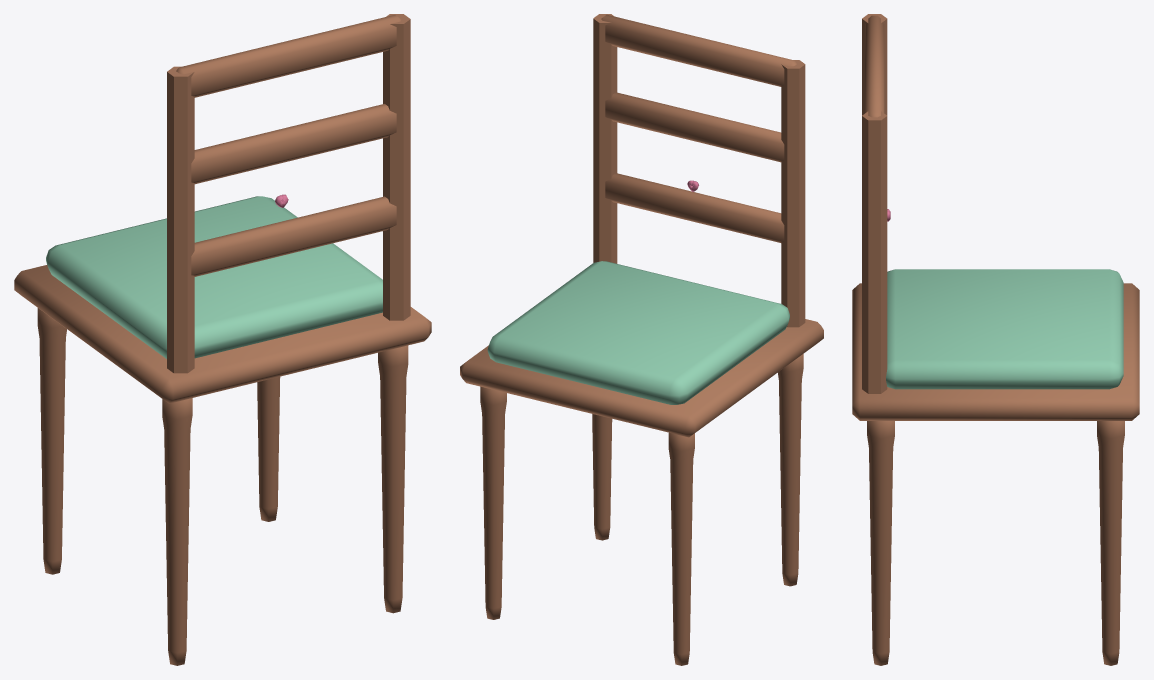
The model's file is chair_simple.glb.
3 renders of one model, left to right at view 1: azimuth 30°, elevation 25°; view 2: azimuth 150°, elevation 25°; view 3: azimuth 270°, elevation 25°, orthographic. The views are drawn at different scales.
Visible parts, largest first — view 1: chair_simple; view 2: chair_simple; view 3: chair_simple.
Boxes of the visible parts, x1,y1,x2,y2 form: chair_simple: (14,14,431,665); chair_simple: (460,14,823,665); chair_simple: (852,14,1139,665).
Size of what is drawn, in the model's own units: 0.45 by 0.95 by 0.45.
